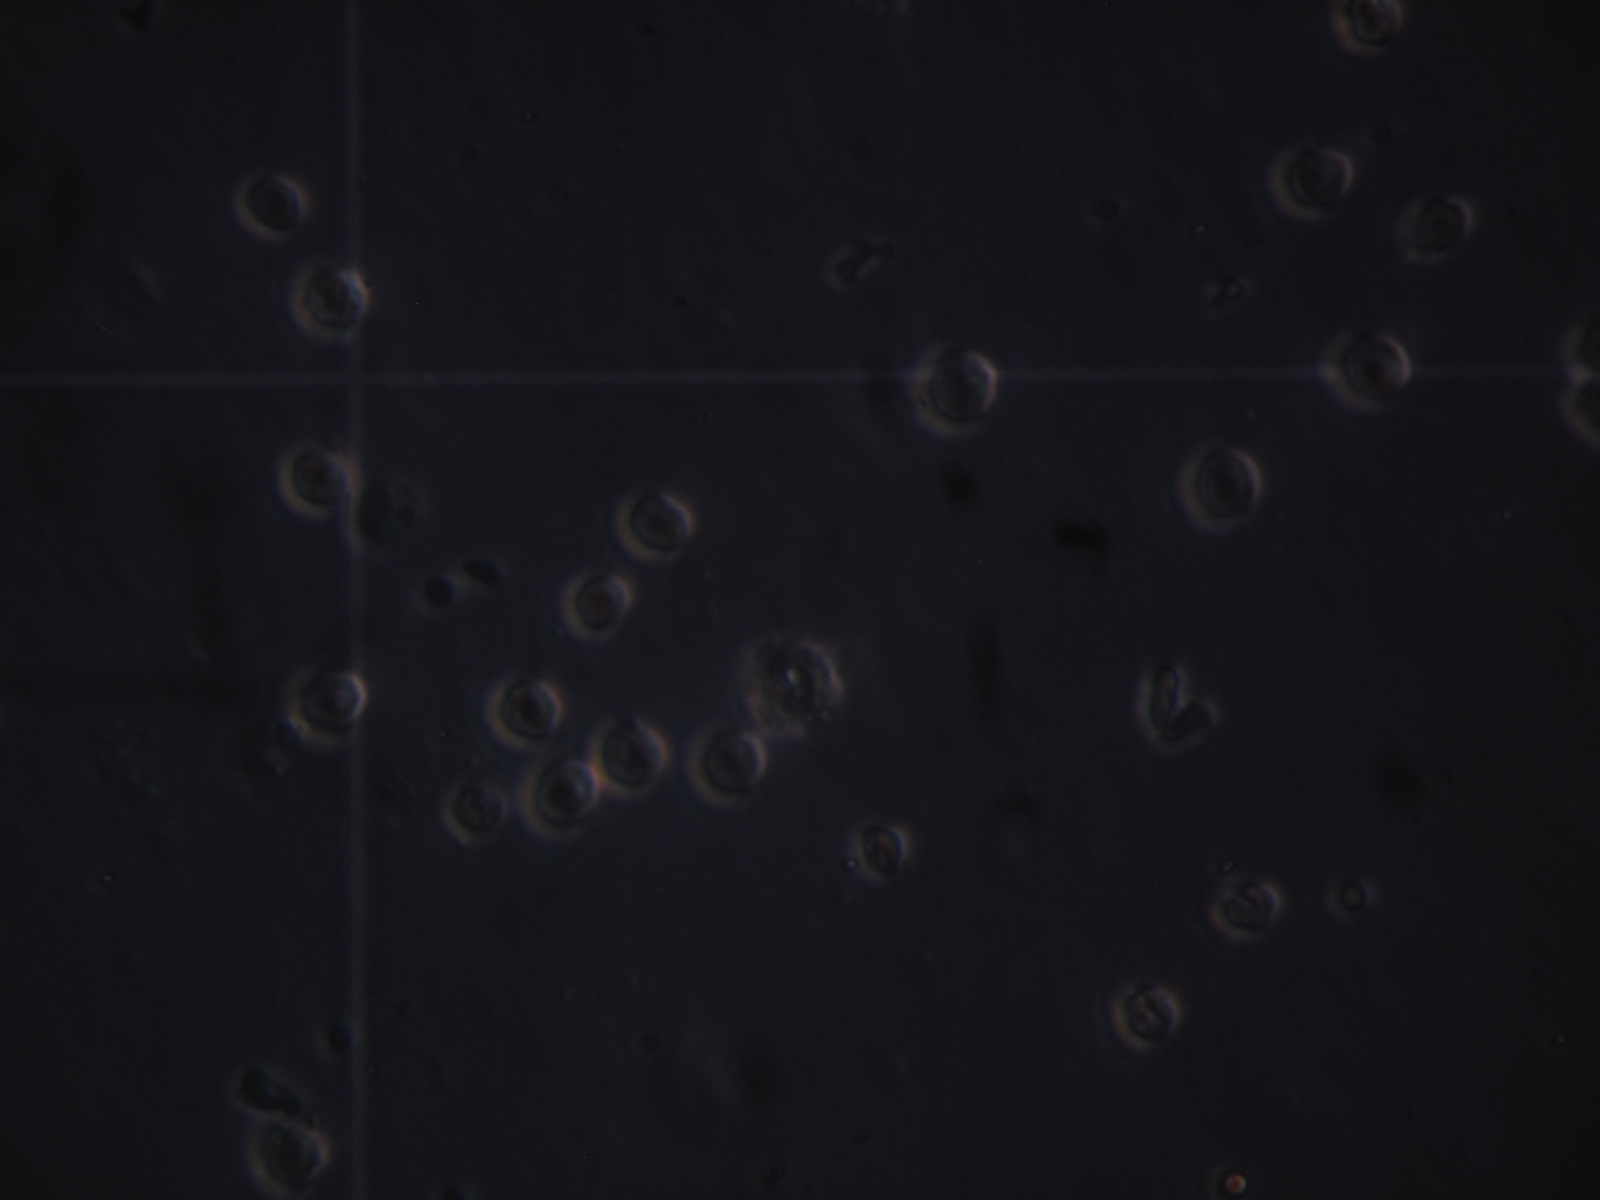hemo: (740, 637, 839, 742), (1317, 321, 1414, 415), (910, 337, 998, 437), (515, 755, 603, 846), (587, 708, 674, 798), (1179, 436, 1260, 531), (283, 663, 367, 753), (688, 722, 770, 811), (289, 260, 369, 347), (1269, 146, 1354, 223), (486, 671, 566, 753), (244, 1119, 326, 1195), (559, 566, 636, 643), (278, 444, 355, 518), (619, 489, 692, 565), (438, 770, 510, 846), (1395, 195, 1474, 263), (234, 171, 307, 242), (1208, 879, 1283, 945), (1112, 982, 1180, 1050), (1330, 1, 1402, 58), (849, 823, 913, 885)
